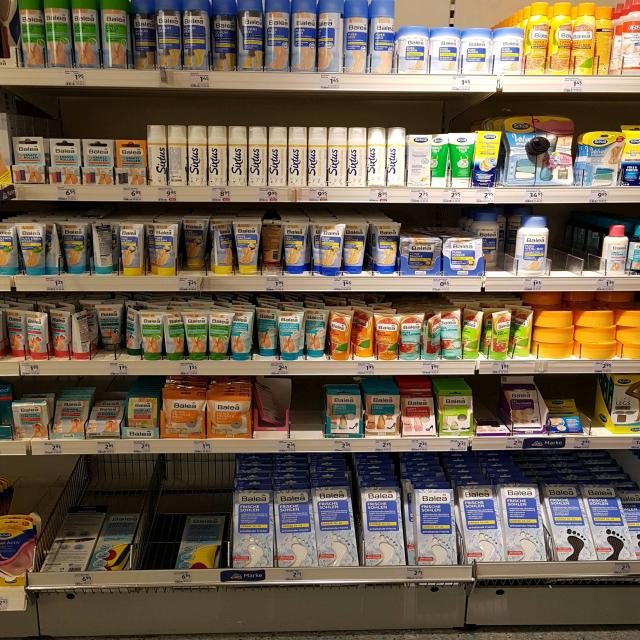empty: (549, 213, 601, 273), (142, 507, 175, 569), (475, 379, 508, 437), (294, 375, 322, 437), (580, 382, 606, 434)
